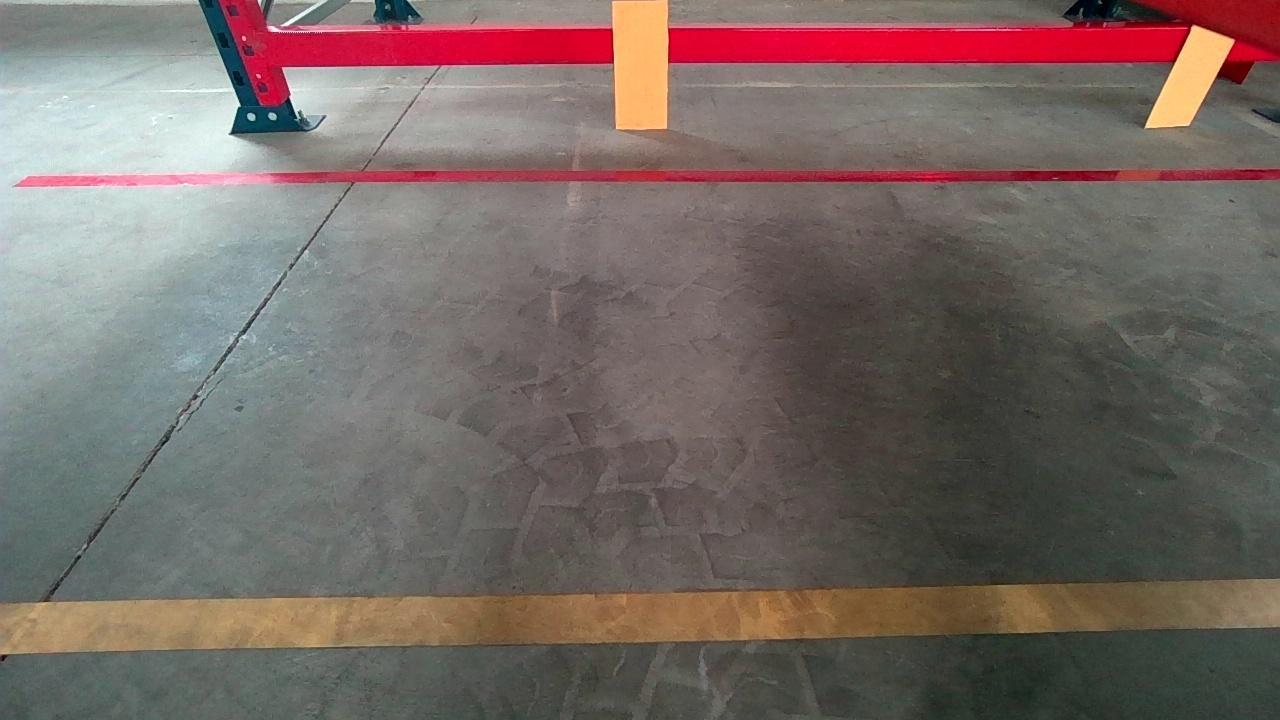h_rack: (271, 20, 1173, 74)
orange_strip: (1145, 28, 1237, 123), (613, 2, 670, 128)
red_line: (9, 164, 1280, 192)
yellow_line: (1, 577, 1270, 658)
